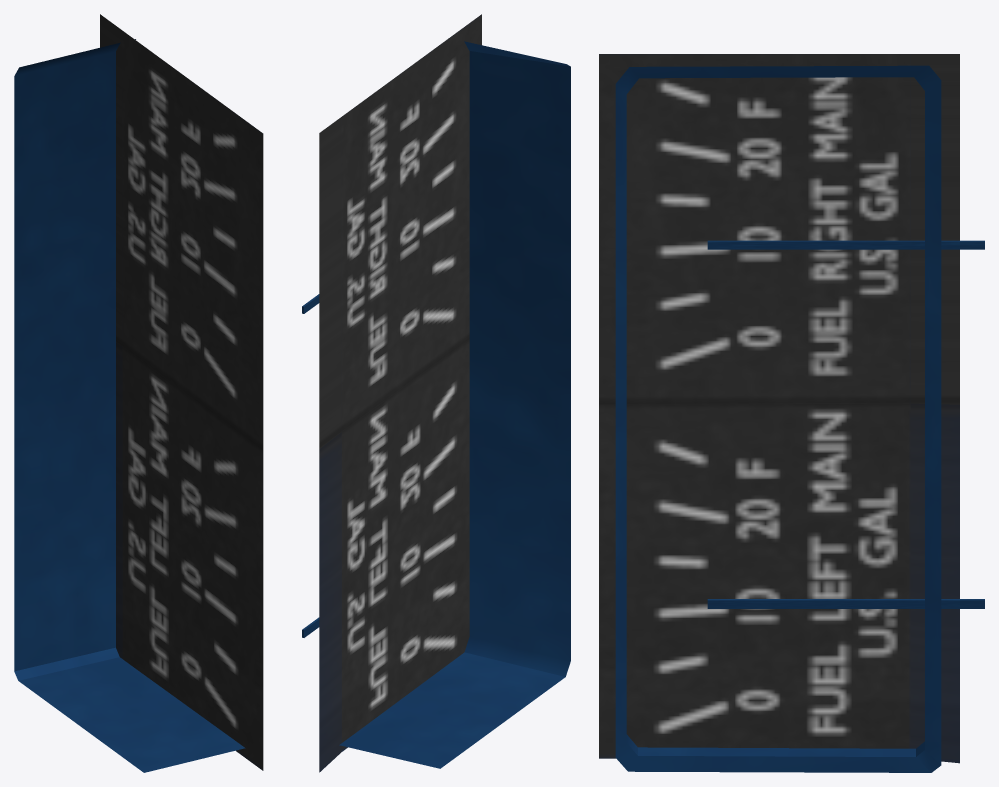
Rendered from fuel.gltf.
3 renders of one model, left to right at view 1: azimuth 30°, elevation 25°; view 2: azimuth 150°, elevation 25°; view 3: azimuth 270°, elevation 25°, orthographic. The views are drawn at different scales.
Parts seen in each view (by area): view 1: Face, Case; view 2: Face, Case; view 3: Face, Case, LeftFuelNeedle, RightFuelNeedle.
Part boxes in pixels (x1=…): Face: x1=100, y1=14, x2=263, y2=770; Case: x1=14, y1=39, x2=245, y2=772; Face: x1=319, y1=14, x2=481, y2=772; Case: x1=339, y1=41, x2=570, y2=768; Face: x1=599, y1=54, x2=959, y2=763; Case: x1=615, y1=65, x2=941, y2=772; LeftFuelNeedle: x1=707, y1=599, x2=984, y2=608; RightFuelNeedle: x1=707, y1=240, x2=984, y2=249.
Bounding box in the file's own units: 0.0116 × 0.0595 × 0.0293.
1 material, 1 textured.
